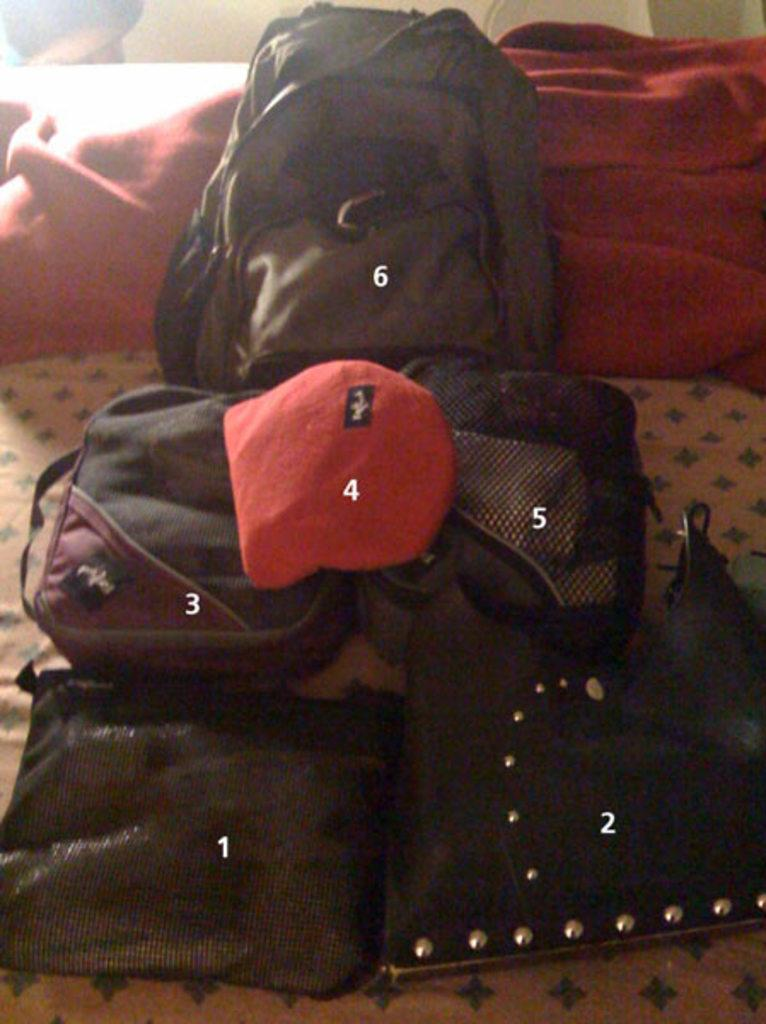Luggage-and-bags: (0, 0, 764, 1005), (152, 39, 575, 406)
